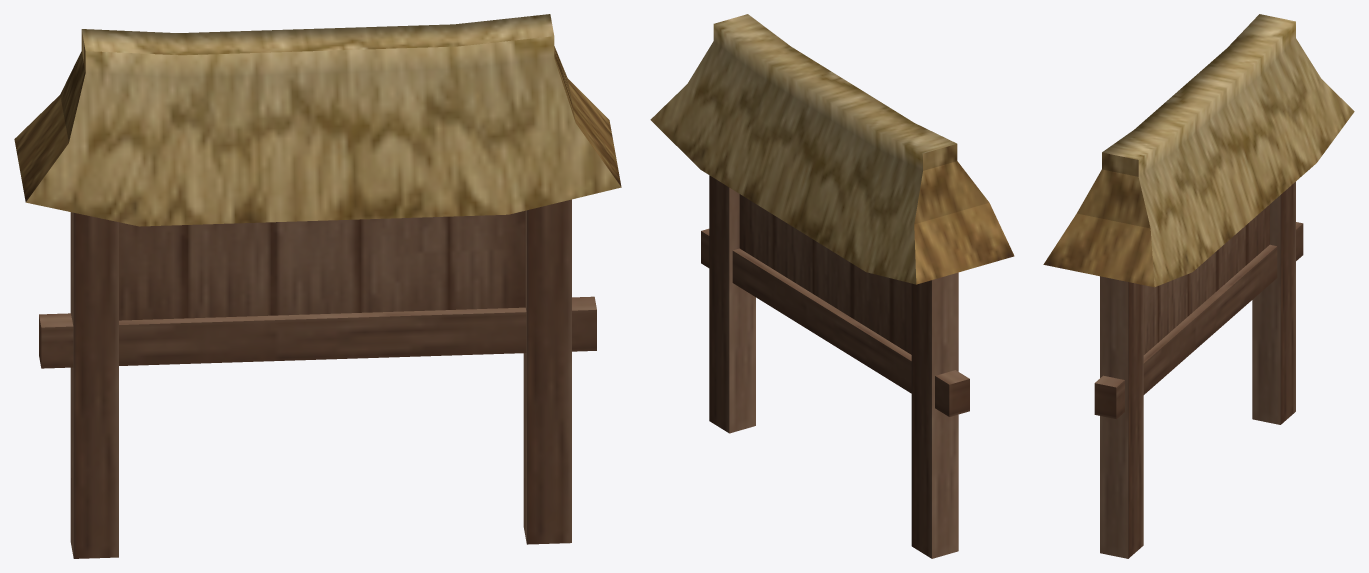
The model's file is Area_11_60.fbx.
3 renders of one model, left to right at view 1: azimuth 30°, elevation 25°; view 2: azimuth 150°, elevation 25°; view 3: azimuth 270°, elevation 25°, orthographic. The views are drawn at different scales.
Visible parts, largest first — view 1: Area_11_60; view 2: Area_11_60; view 3: Area_11_60.
Boxes of the visible parts, <box> form: Area_11_60: <box>14,14,621,558</box>; Area_11_60: <box>650,14,1014,558</box>; Area_11_60: <box>1043,14,1354,558</box>.
Size of the model in its own units: 308 by 287 by 205.
